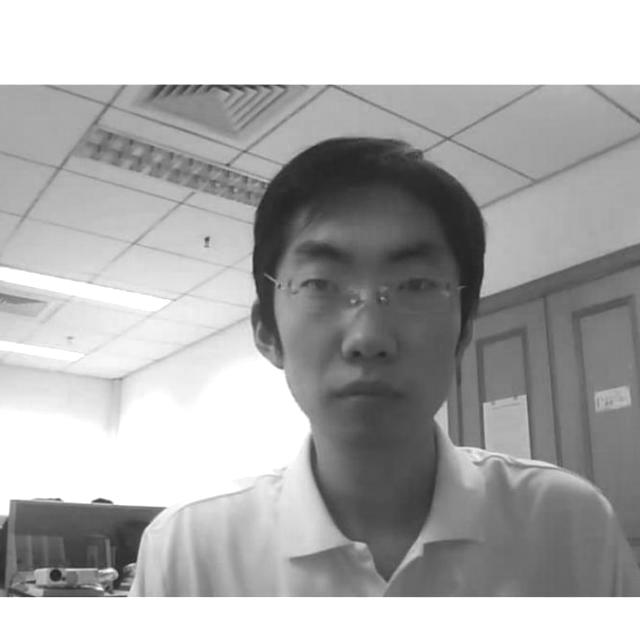real: (244, 128, 490, 446)
